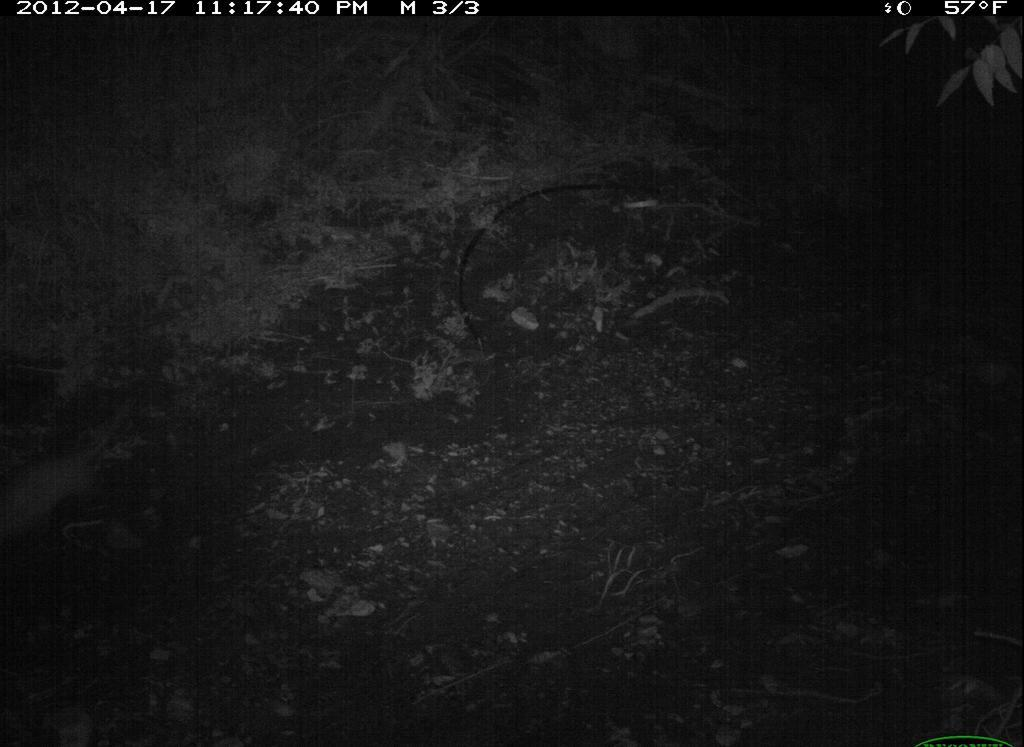opossum: (4, 413, 126, 553)
